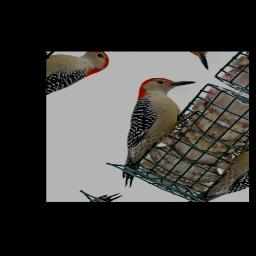Woodpecker: (67, 64, 222, 190)
